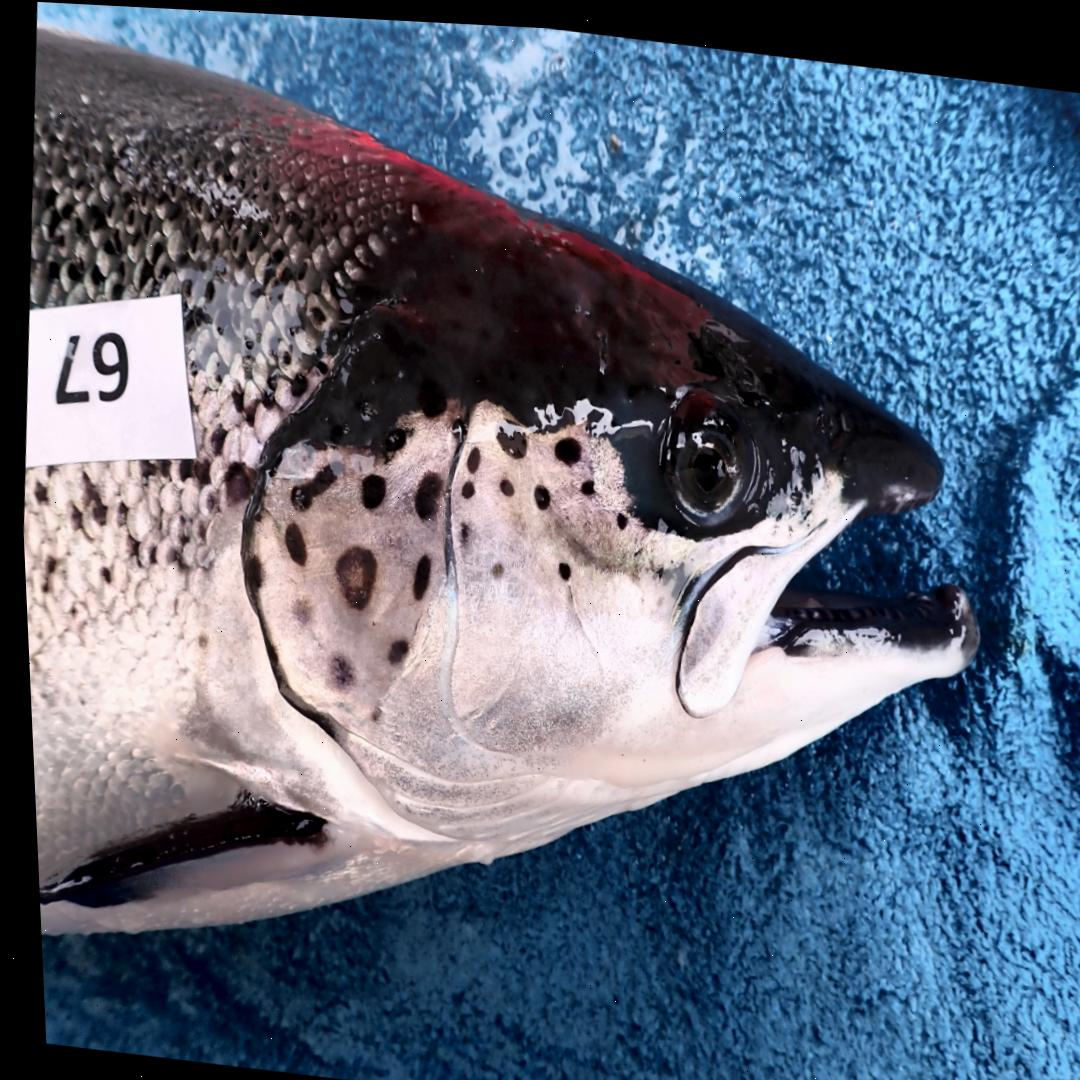spot: (284, 455, 341, 507), (330, 542, 371, 606), (408, 467, 437, 516), (491, 412, 524, 451), (279, 519, 301, 563), (356, 470, 381, 505), (323, 650, 348, 684), (407, 550, 425, 595), (550, 431, 577, 458), (241, 555, 258, 591), (381, 634, 401, 662), (381, 424, 402, 447), (528, 478, 546, 504), (287, 595, 305, 621), (461, 441, 475, 467), (495, 473, 511, 491), (448, 413, 460, 435), (575, 474, 590, 489), (456, 475, 469, 492), (553, 557, 566, 574), (456, 517, 464, 542), (487, 556, 499, 572), (611, 506, 622, 521)
